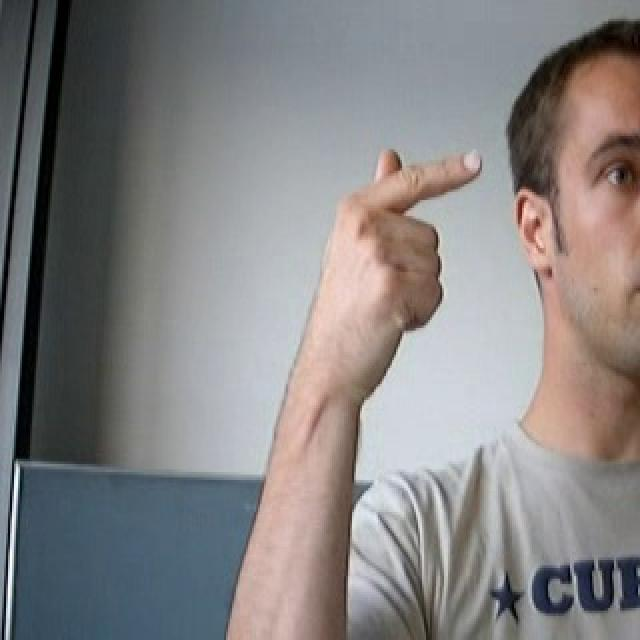G: (296, 114, 501, 358)
